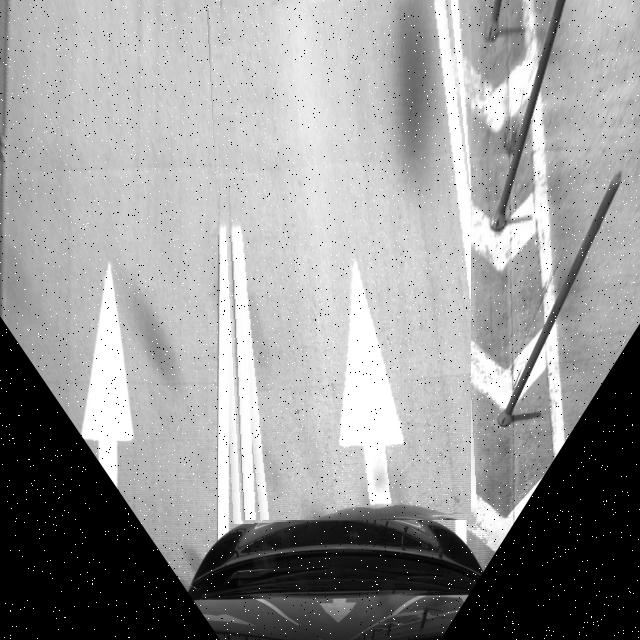forward: (214, 0, 471, 520)
